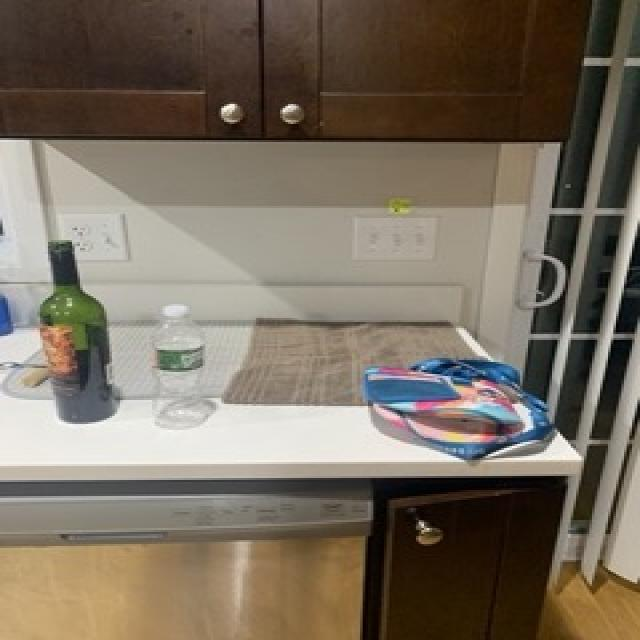water_bottle: (148, 301, 212, 431)
